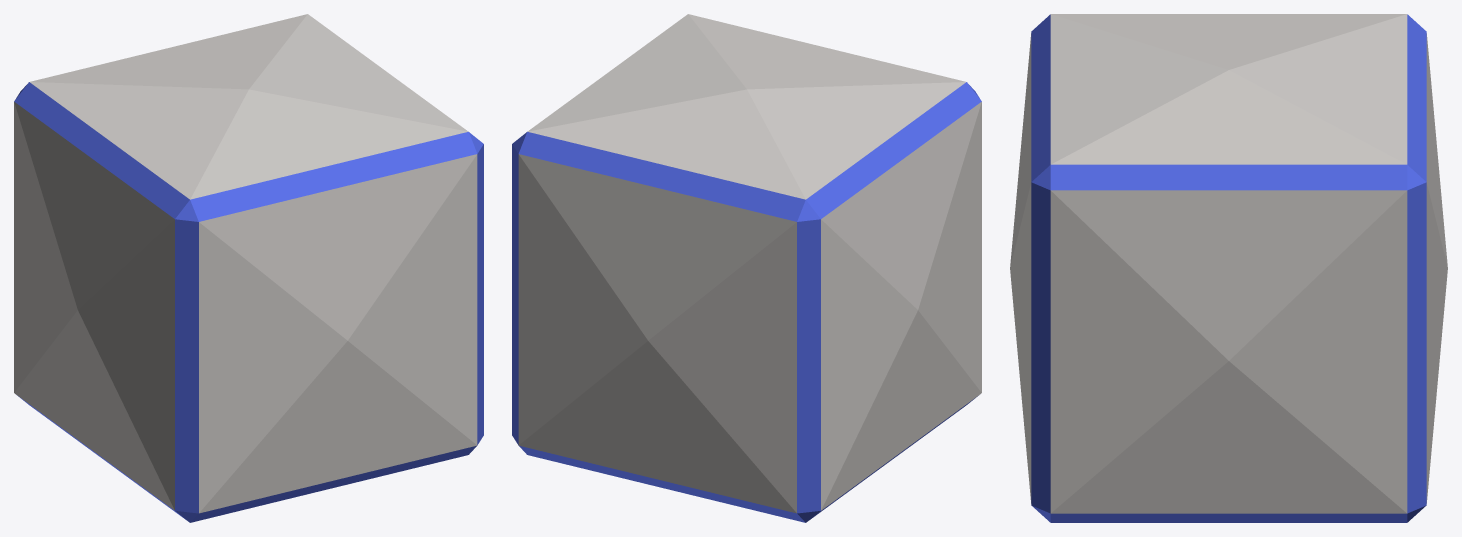
The model's file is newCube2.fbx.
3 views of the same model, side by side, from view 1: azimuth 30°, elevation 25°; view 2: azimuth 150°, elevation 25°; view 3: azimuth 270°, elevation 25° (orthographic). The views are drawn at different scales.
Parts seen in each view (by area): view 1: Cube; view 2: Cube; view 3: Cube.
Boxes of the visible parts, <box> form: Cube: <box>14,14,483,522</box>; Cube: <box>512,14,981,522</box>; Cube: <box>1010,14,1447,522</box>.
Bounding box in the file's own units: 222 × 222 × 222.
